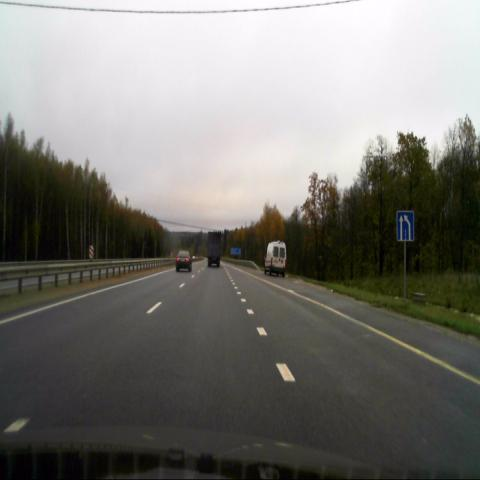5_15_5: (398, 212, 414, 240)
